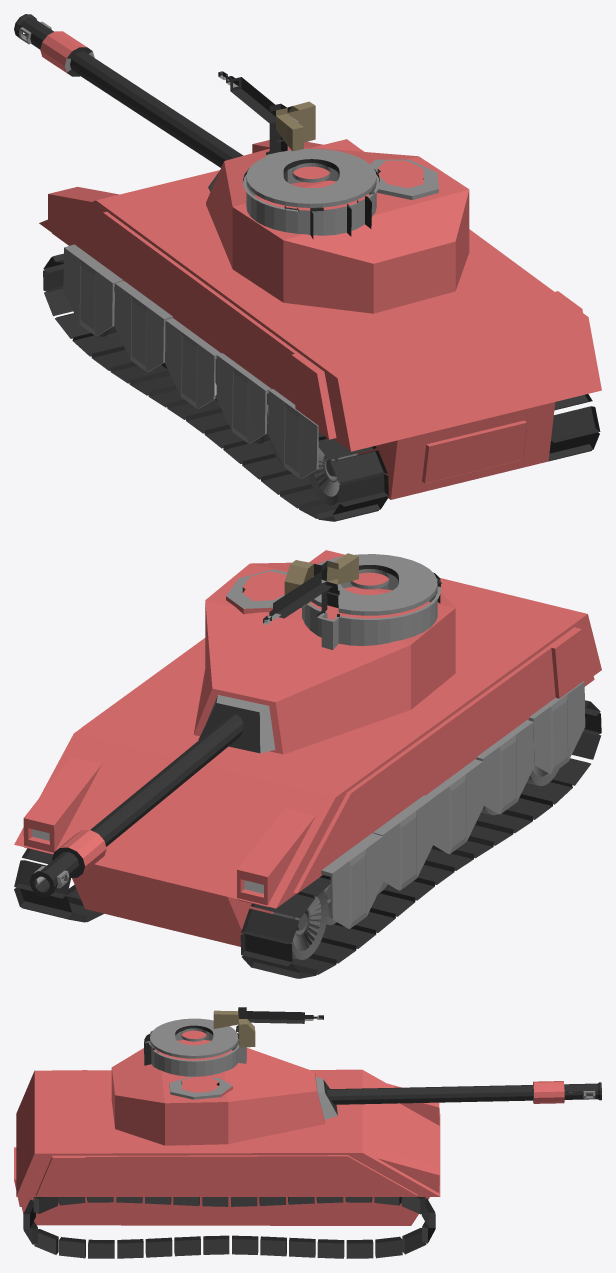
Rendered from tank v1 rigqwegedlllllll.fbx.
3 renders of one model, top to bottom at view 1: azimuth 30°, elevation 25°; view 2: azimuth 150°, elevation 25°; view 3: azimuth 270°, elevation 25°, orthographic. The views are drawn at different scales.
Parts seen in each view (by area): view 1: Cube.003, Cube.002, Cube.004, Cube.001, Cube.005, Cylinder.001; view 2: Cube.003, Cube.002, Cube.004, Cube.001, Cube.005, Cylinder.001; view 3: Cube.003, Cube.002, Cube.005.
Boxes of the visible parts, x1,y1,x2,y2 form: Cube.003: (39, 139, 601, 499); Cube.002: (14, 14, 469, 313); Cube.004: (63, 244, 318, 478); Cube.001: (43, 253, 388, 521); Cube.005: (548, 394, 600, 461); Cylinder.001: (98, 292, 357, 505); Cube.003: (14, 550, 601, 946); Cube.002: (30, 553, 455, 897); Cube.004: (321, 681, 585, 928); Cube.001: (240, 700, 601, 978); Cube.005: (14, 848, 103, 922); Cylinder.001: (273, 765, 559, 959); Cube.003: (14, 1069, 440, 1225); Cube.002: (111, 1007, 601, 1145); Cube.005: (23, 1197, 435, 1258).
Bounding box in the file's own units: 648 × 663 × 1775.
